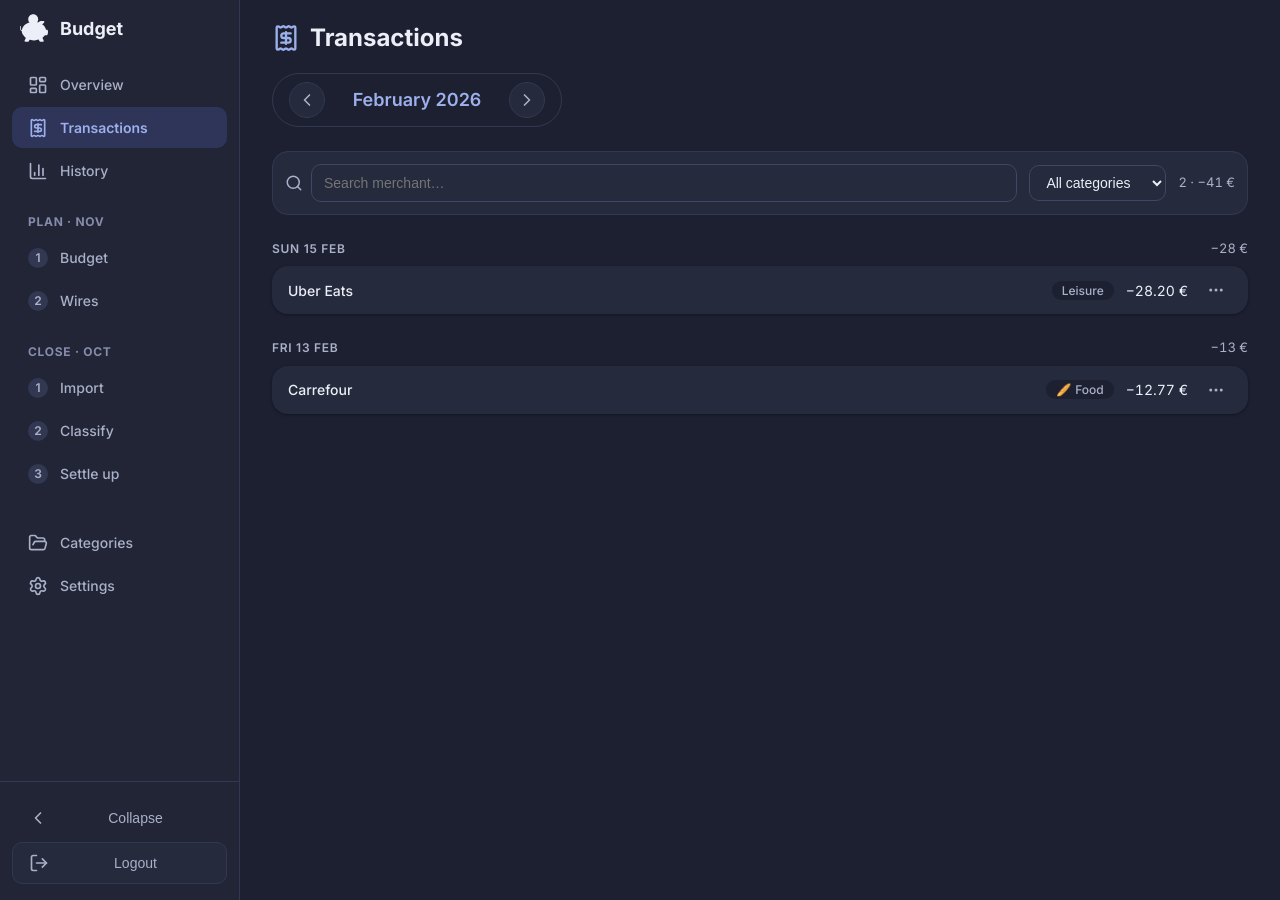
Test: Transactions Page › should filter by category and explain when nothing matches
This screenshot has width=1280, height=900.
Step 1. Select "Leisure" in the dropdown named "Filter by category" → x=1098, y=183, box [1029,165,1166,201]
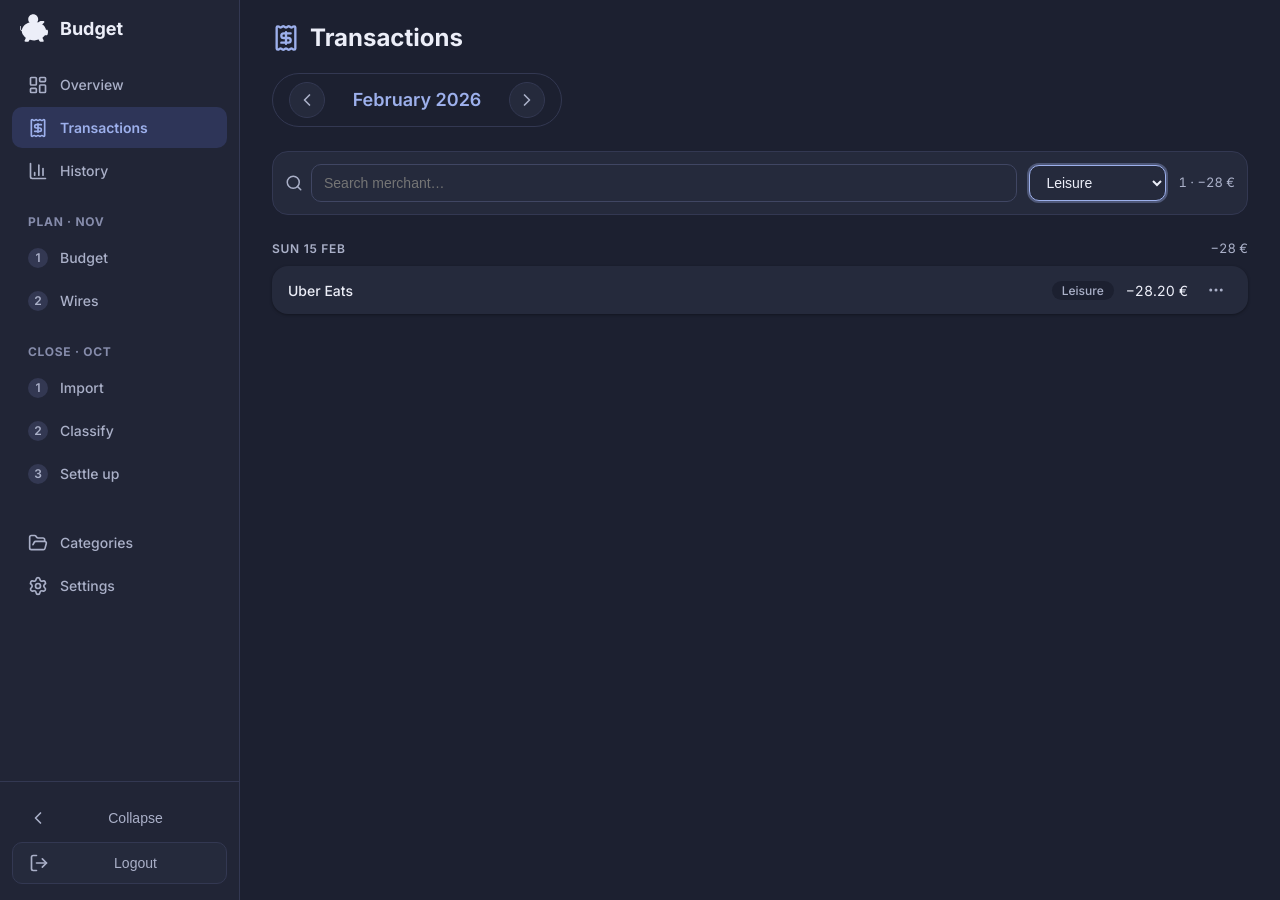
Expected: the text "Uber Eats" is shown, [288,282,353,299]
Result: the text "Carrefour" is gone
Step 2. Select "Uncategorized" in the dropdown named "Filter by category" → x=1098, y=183, box [1029,165,1166,201]
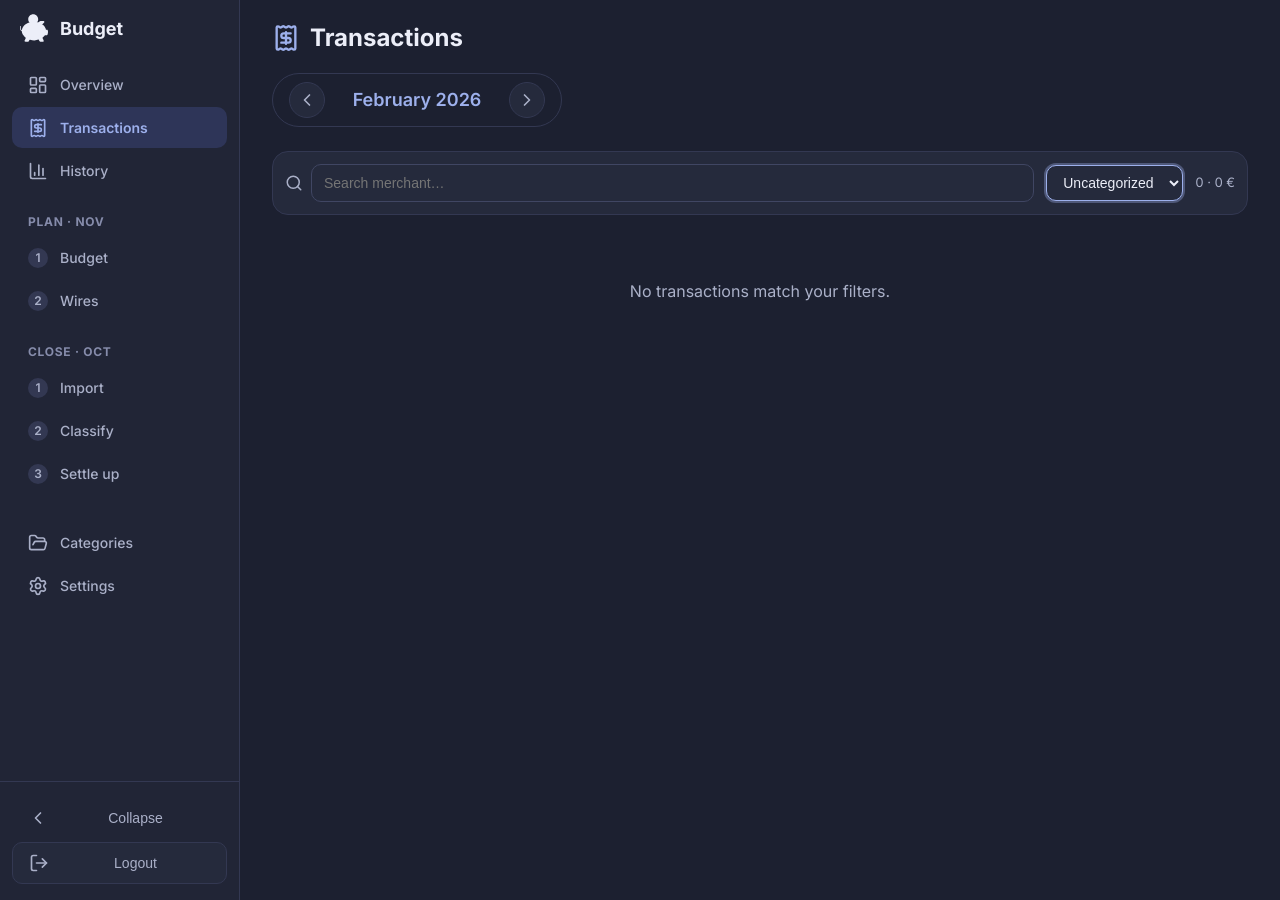
Result: the text "No transactions match your filters." is shown at [630,281,890,301]
